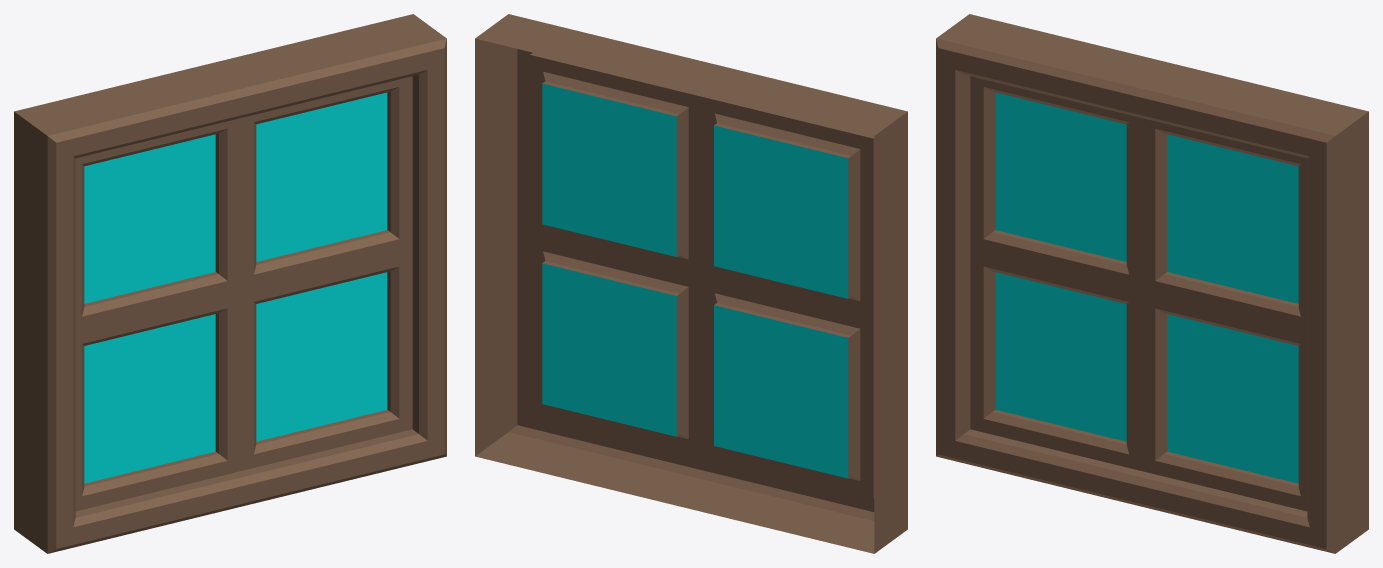
The model's file is Ventana_peq.fbx.
The picture shows the model from 3 angles, left to right: view 1: azimuth 30°, elevation 25°; view 2: azimuth 150°, elevation 25°; view 3: azimuth 330°, elevation 25°; orthographic projection.
Visible parts, largest first — view 1: polySurface43; view 2: polySurface43; view 3: polySurface43.
Part boxes in pixels (<box>): polySurface43: <box>14,14,446,553</box>; polySurface43: <box>475,14,907,553</box>; polySurface43: <box>936,14,1368,553</box>.
Size of the model in its own units: 117 by 117 by 18.57.
